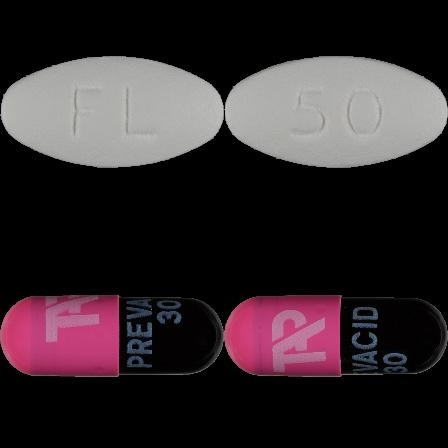21695-651: (0, 0, 224, 224)
